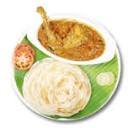parota: (22, 58, 91, 117)
